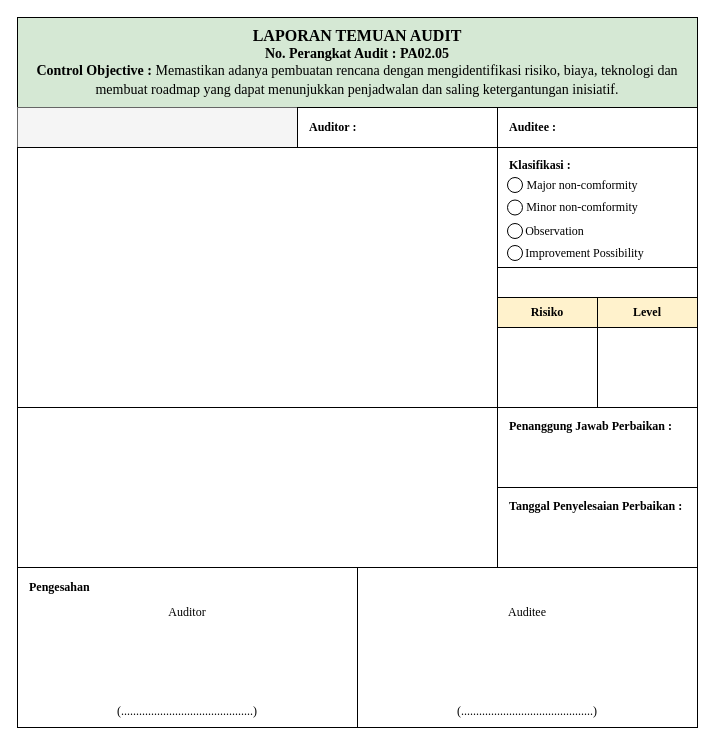
Image size: 715x745. Some labels were removed from this diagram. Each missing label, with the centre of its shape:
"Kesimpulan Temuan :" goes at point 257,277.
"Rekomendasi :" goes at point 257,487.
"Risiko Terkait :" goes at point 597,282.
"Tanggal :" goes at point 157,127.
